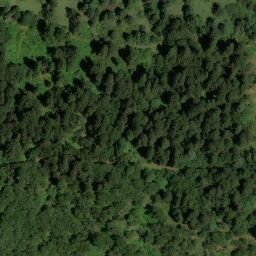forest: (1, 165, 256, 256), (1, 86, 256, 164), (88, 64, 256, 86), (125, 44, 247, 65), (155, 11, 225, 46), (2, 55, 48, 87), (48, 46, 78, 86), (42, 18, 71, 46), (1, 5, 40, 25)
